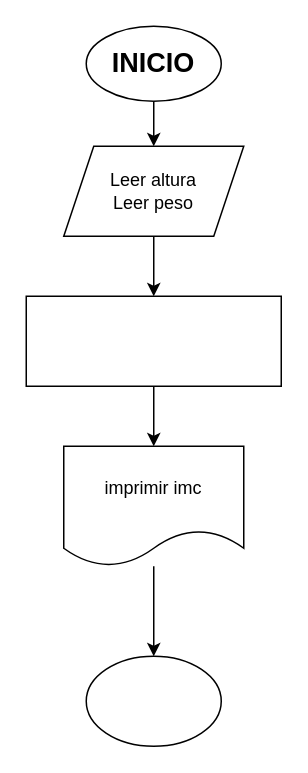
Some shapes in this 308 by 773 pixel diagram are drawn without their labels. The shapes that lost their labels are listed below. From the top down, each one's centre as x and y in pixels, then its label:
At point 153,340: "imc = peso / (altura * altura)".
At point 153,700: "FIN".
